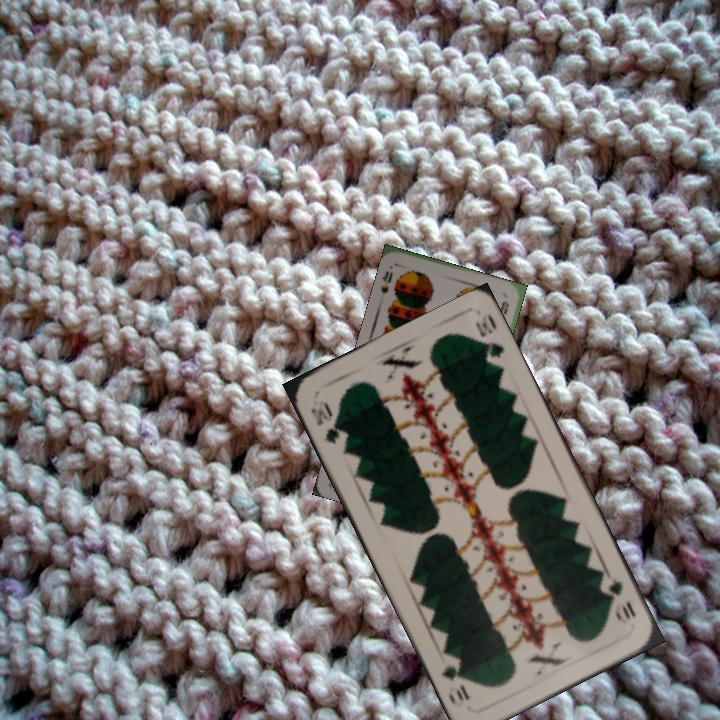G10: (601, 572, 639, 623), (306, 396, 343, 447)
S8: (377, 267, 395, 296)
